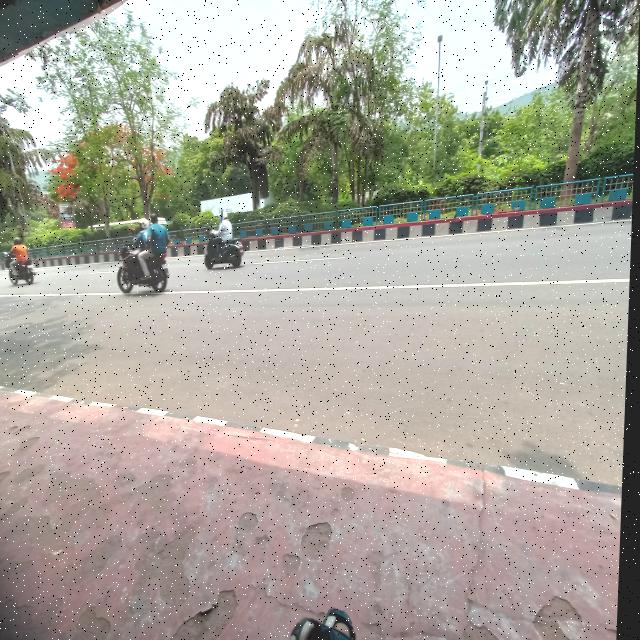bike: (113, 237, 183, 299), (205, 231, 251, 271), (5, 247, 41, 292)
